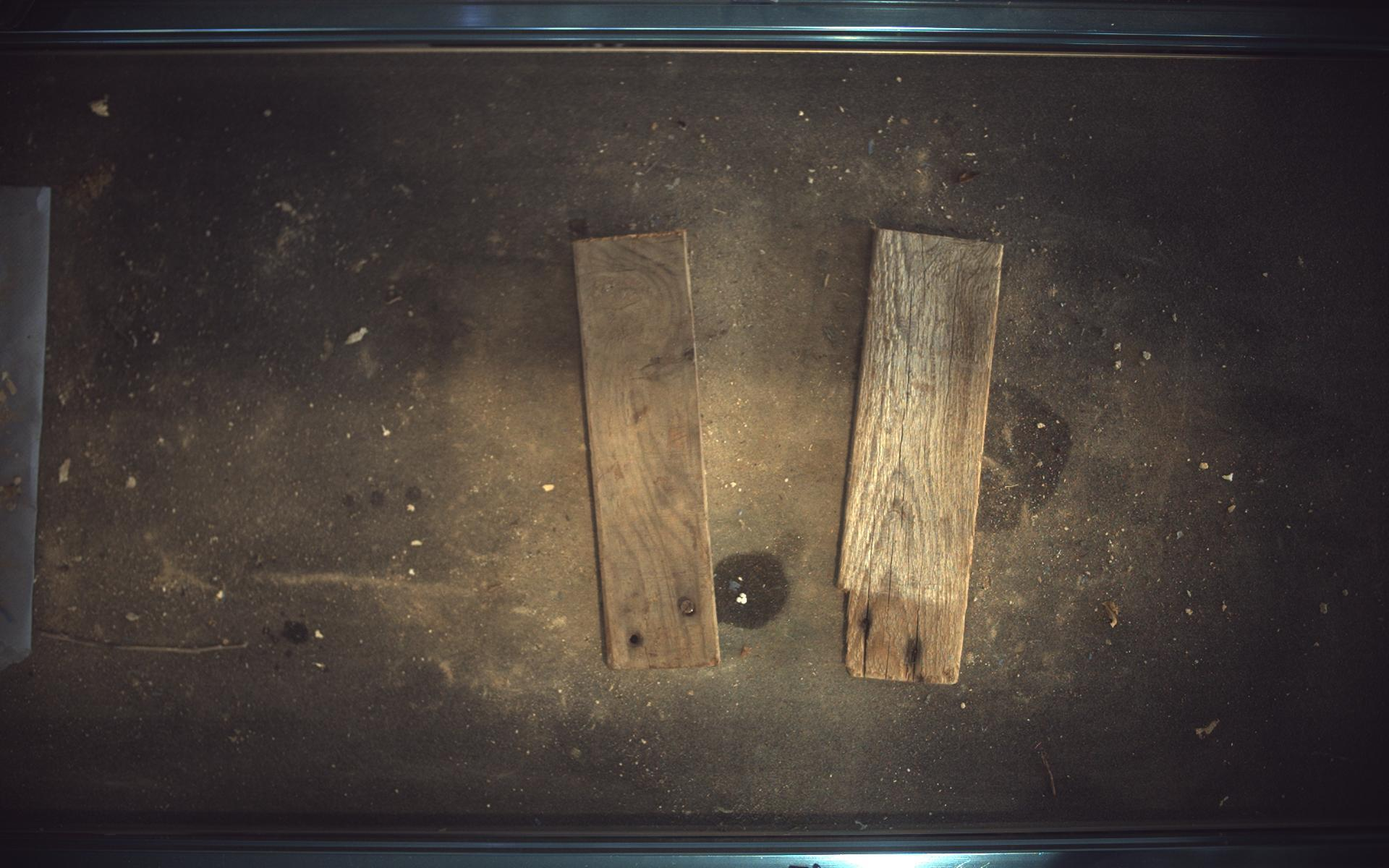wood: (840, 228, 1006, 685), (574, 229, 721, 671)
